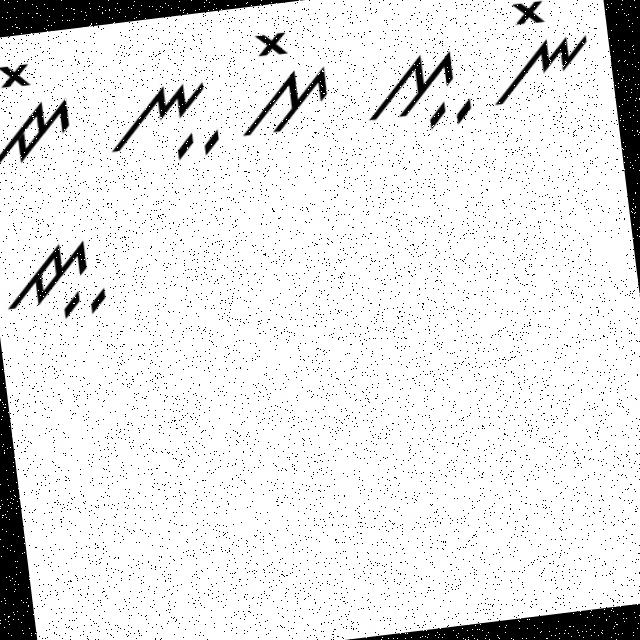jah: (0, 222, 112, 329)
jo: (0, 50, 79, 171)
nyah: (97, 70, 226, 176)
nyo: (483, 0, 599, 110)
sah: (359, 37, 478, 139)
so: (227, 18, 342, 140)
